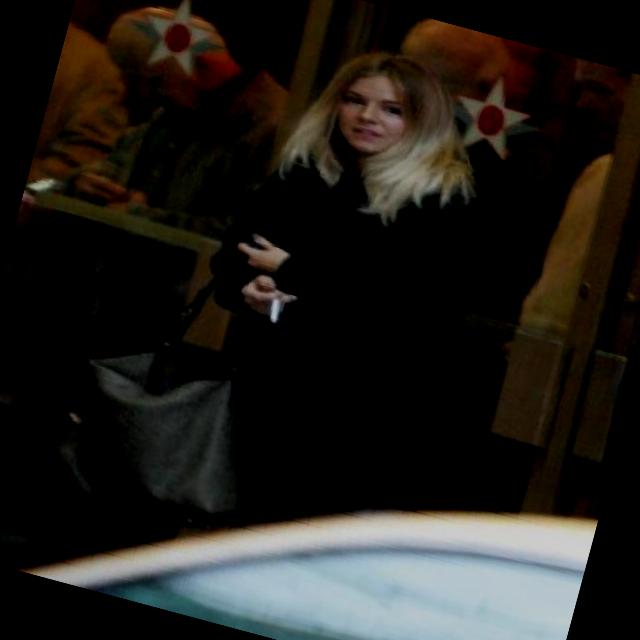cigarette: (264, 288, 288, 325)
